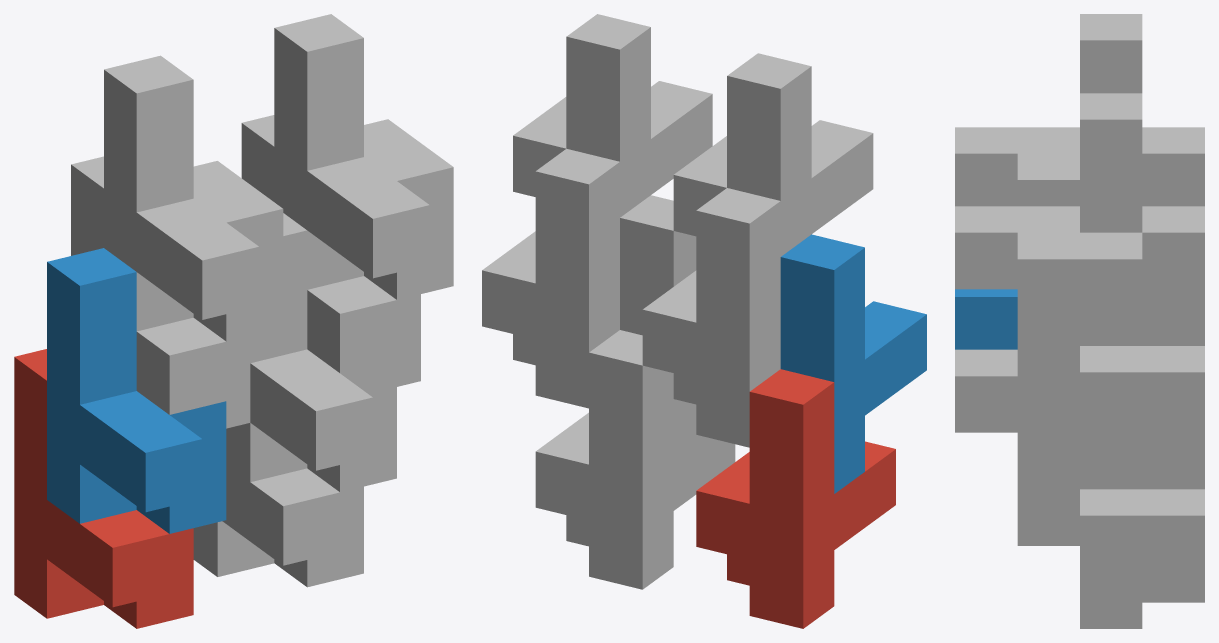
The model's file is tiling.obj.
3 renders of one model, left to right at view 1: azimuth 30°, elevation 25°; view 2: azimuth 150°, elevation 25°; view 3: azimuth 270°, elevation 25°, orthographic. The views are drawn at different scales.
Parts seen in each view (by area): view 1: copy_1_domain_4, copy_1_domain_8, copy_1_domain_2, copy_1_domain_6, copy_1_domain_1, copy_1_domain_5, copy_1_domain_3, copy_1_domain_7; view 2: copy_1_domain_1, copy_1_domain_5, copy_1_domain_3, copy_1_domain_7, copy_1_domain_4, copy_1_domain_8, copy_1_domain_2, copy_1_domain_6; view 3: copy_1_domain_8, copy_1_domain_7, copy_1_domain_5, copy_1_domain_4, copy_1_domain_6, copy_1_domain_3, copy_1_domain_2.
Boxes of the visible parts, x1,y1,x2,y2 form: copy_1_domain_4: [104, 55, 283, 341]; copy_1_domain_8: [274, 14, 453, 299]; copy_1_domain_2: [47, 248, 226, 533]; copy_1_domain_6: [226, 213, 396, 492]; copy_1_domain_1: [14, 349, 193, 628]; copy_1_domain_5: [193, 465, 363, 587]; copy_1_domain_3: [71, 156, 250, 428]; copy_1_domain_7: [241, 115, 420, 386]; copy_1_domain_1: [696, 369, 895, 628]; copy_1_domain_5: [535, 330, 735, 589]; copy_1_domain_3: [642, 188, 780, 447]; copy_1_domain_7: [482, 148, 619, 408]; copy_1_domain_4: [673, 53, 873, 256]; copy_1_domain_8: [513, 14, 712, 217]; copy_1_domain_2: [780, 234, 926, 493]; copy_1_domain_6: [620, 195, 699, 454]; copy_1_domain_8: [955, 93, 1142, 372]; copy_1_domain_7: [1017, 206, 1204, 485]; copy_1_domain_5: [1017, 459, 1204, 628]; copy_1_domain_4: [955, 14, 1142, 206]; copy_1_domain_6: [955, 349, 1142, 515]; copy_1_domain_3: [1142, 127, 1204, 206]; copy_1_domain_2: [955, 289, 1017, 349].
Size of the model in its own units: 6 by 9 by 4.
